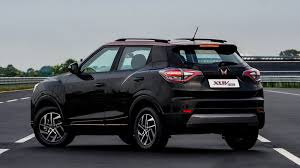XUV 400: (29, 26, 266, 153)
